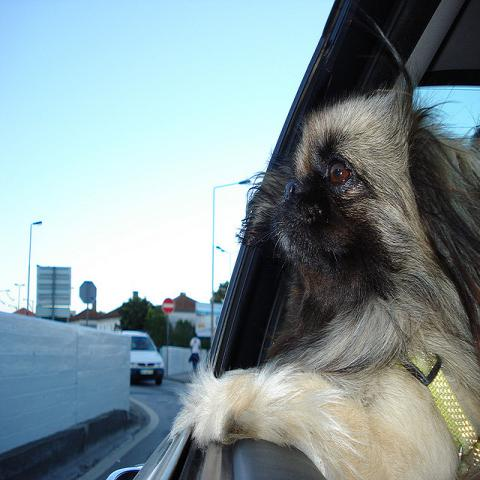car: (209, 232, 296, 378), (119, 330, 166, 387)
